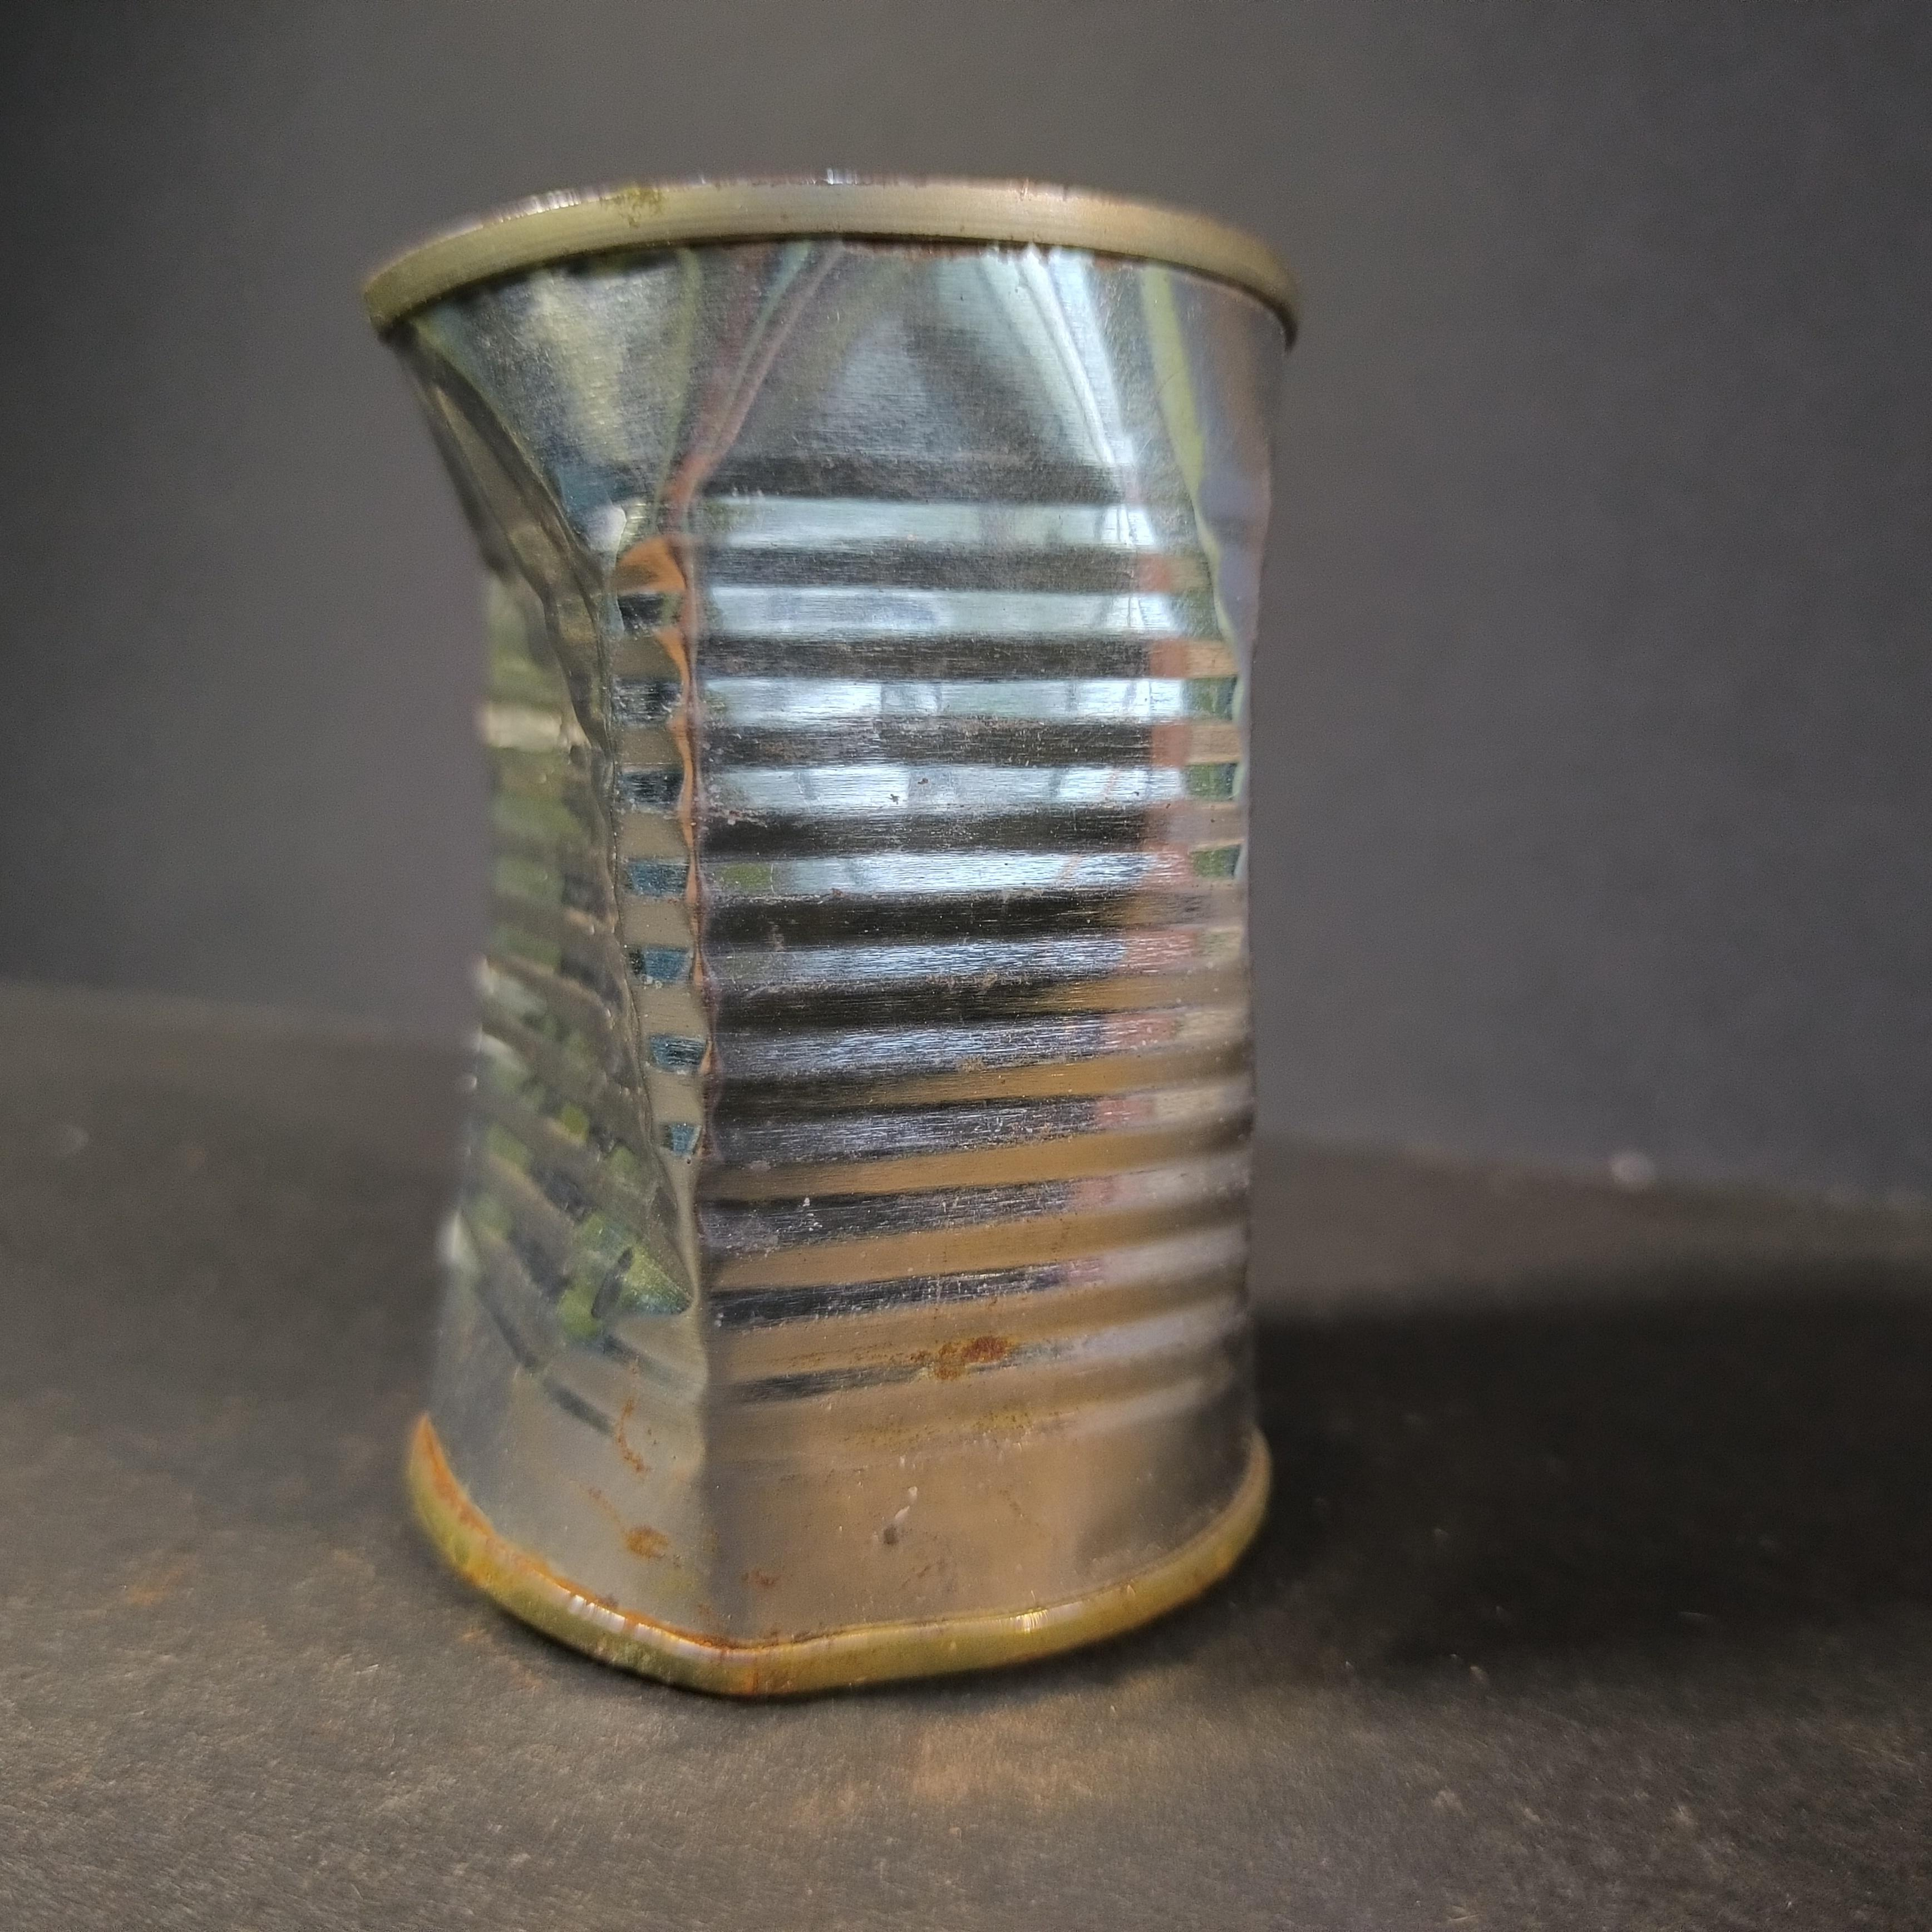Dented: (334, 142, 1313, 1709)
